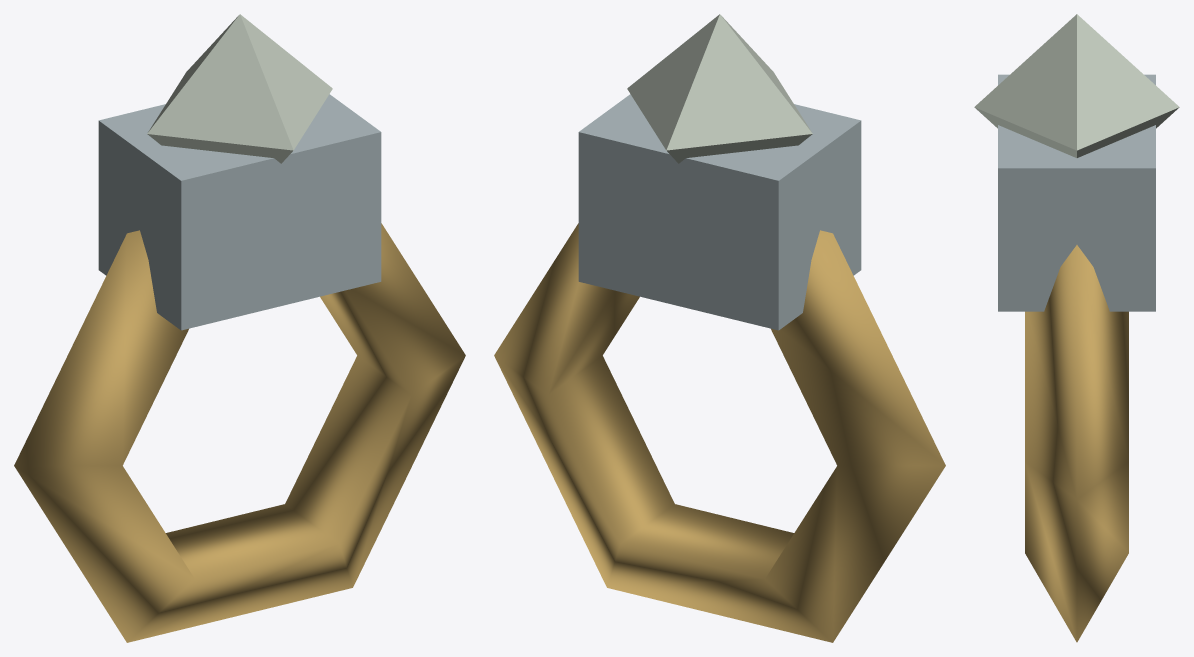
File: accessory-0-lod2.glb
3 renders of one model, left to right at view 1: azimuth 30°, elevation 25°; view 2: azimuth 150°, elevation 25°; view 3: azimuth 270°, elevation 25°, orthographic. The views are drawn at different scales.
Parts seen in each view (by area): view 1: piece_whole; view 2: piece_whole; view 3: piece_whole.
Part boxes in pixels (x1,y1,x2,y2): piece_whole: [14, 14, 465, 642]; piece_whole: [494, 14, 945, 642]; piece_whole: [974, 14, 1179, 642].
Bounding box in the file's own units: 0.316 × 0.4018 × 0.13.
